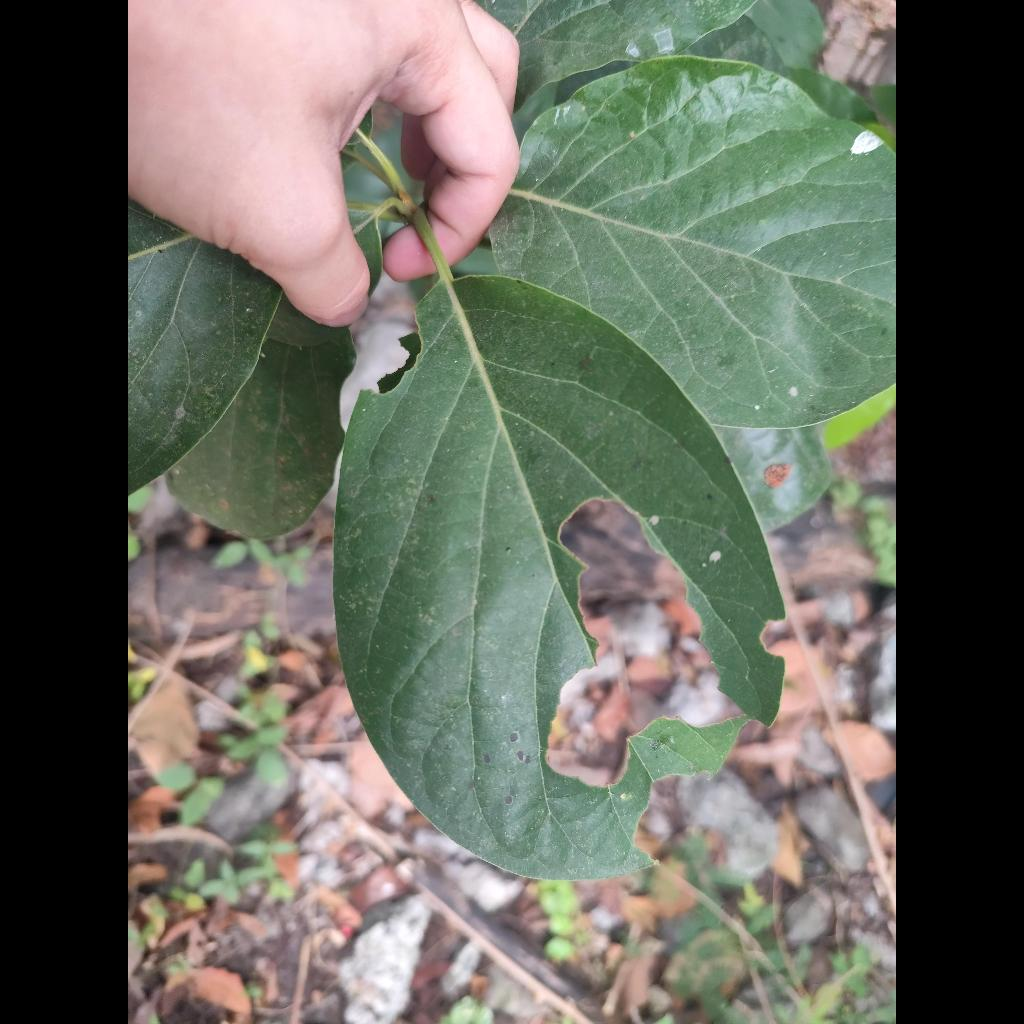Pest Infested: (334, 276, 785, 880)
